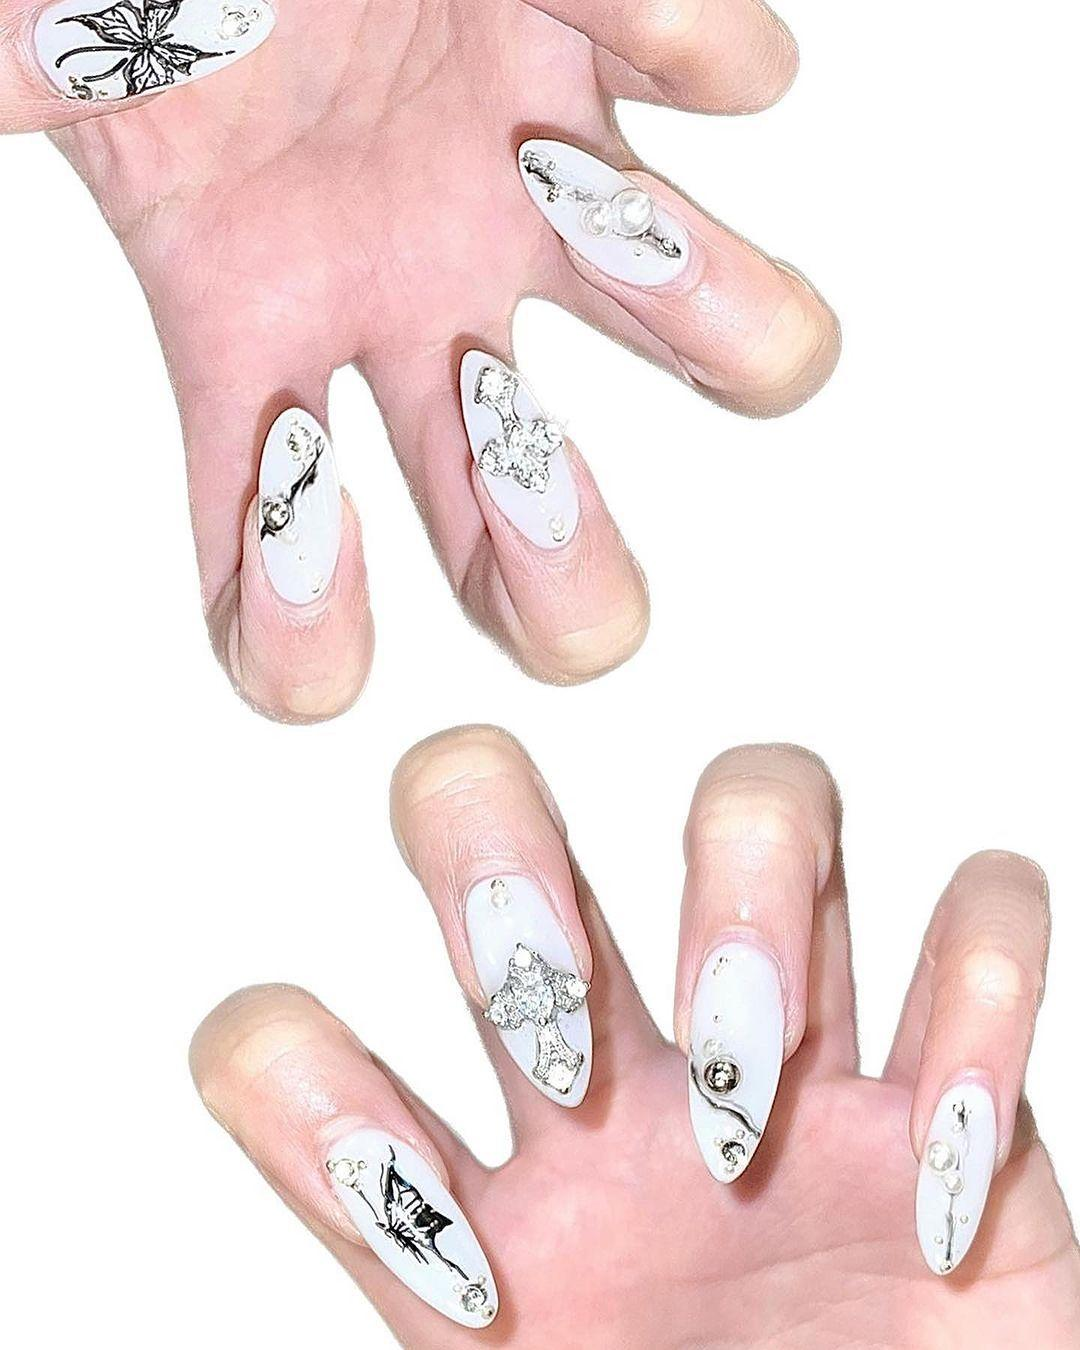nail: (514, 134, 841, 418), (387, 722, 596, 1108), (671, 739, 842, 1184), (888, 847, 1052, 1276), (455, 346, 651, 684), (321, 1125, 499, 1329), (515, 134, 692, 291), (683, 929, 787, 1184), (457, 346, 582, 552), (253, 404, 344, 607), (912, 1068, 998, 1276)
